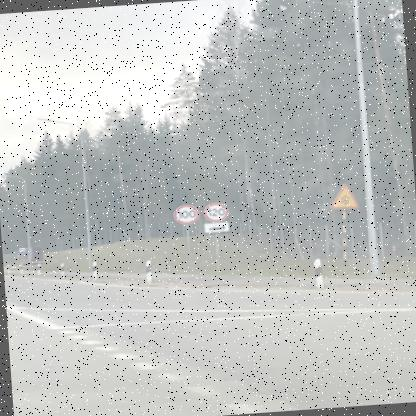speedlimit: (170, 201, 198, 224), (202, 202, 225, 220)
